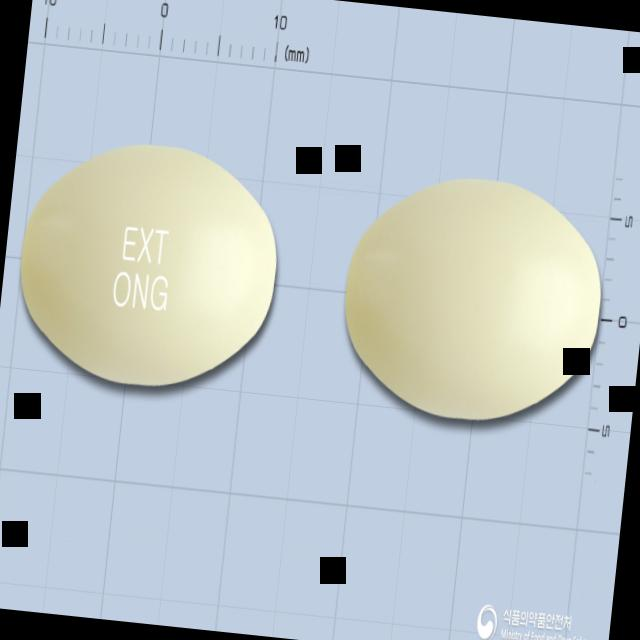Clari - 500mg: (9, 128, 289, 404), (333, 164, 614, 434)
